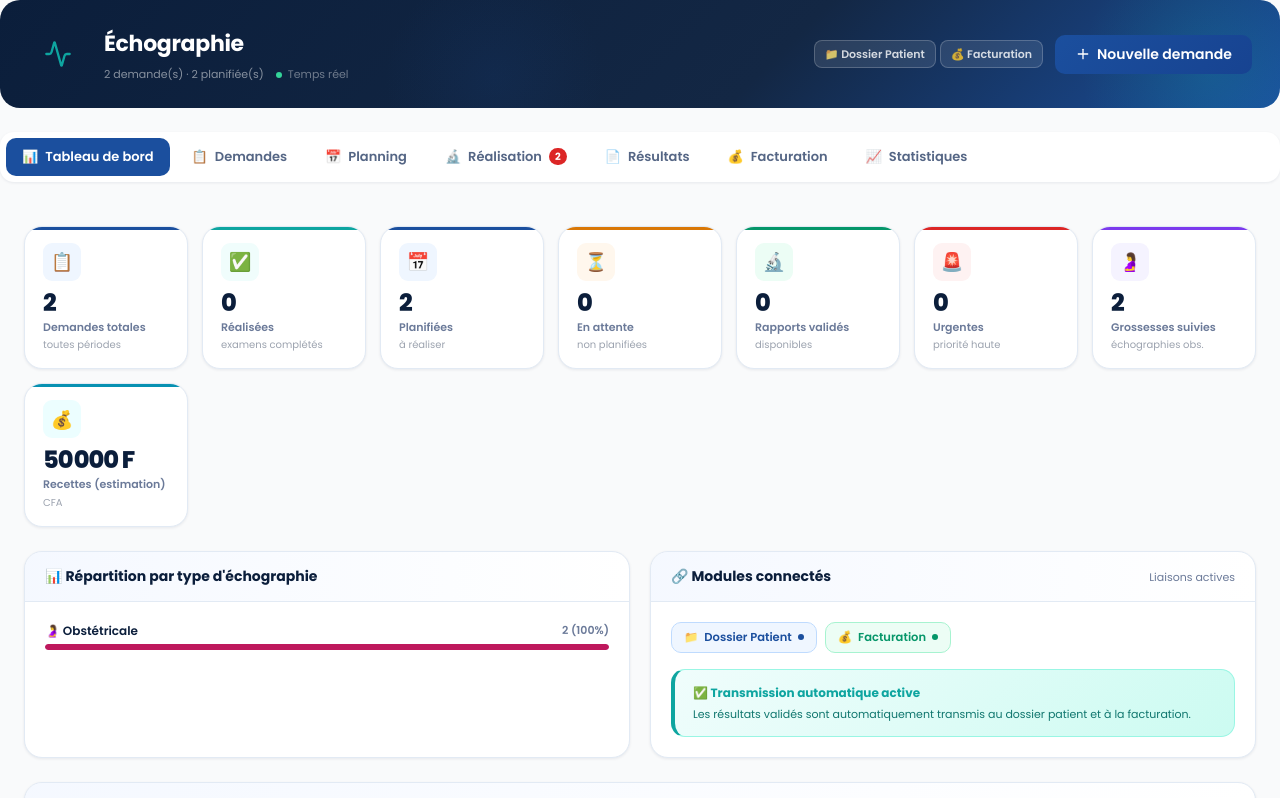
Scenario: un créneau réel n'apparaît que dans sa propre semaine, jamais dans une autre semaine au même jour
The image size is (1280, 798).
Click the button "📅 Planning" at (366, 157), box [309,138,423,176]
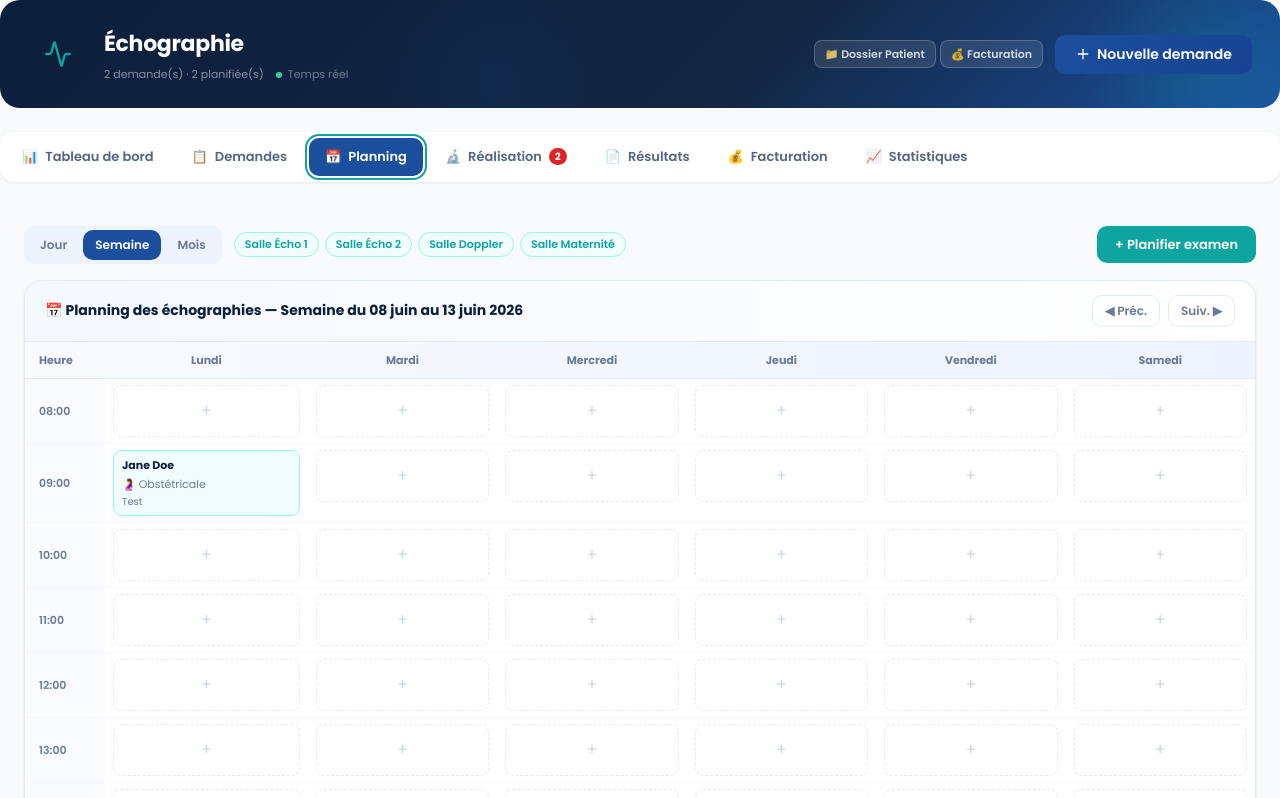
Expected: the text "Autre Patient" is not shown
Now the text "Jane Doe" is shown, box [122,457,174,473]
Click the button "Suiv. ▶" at (1202, 310), box [1168,294,1235,326]
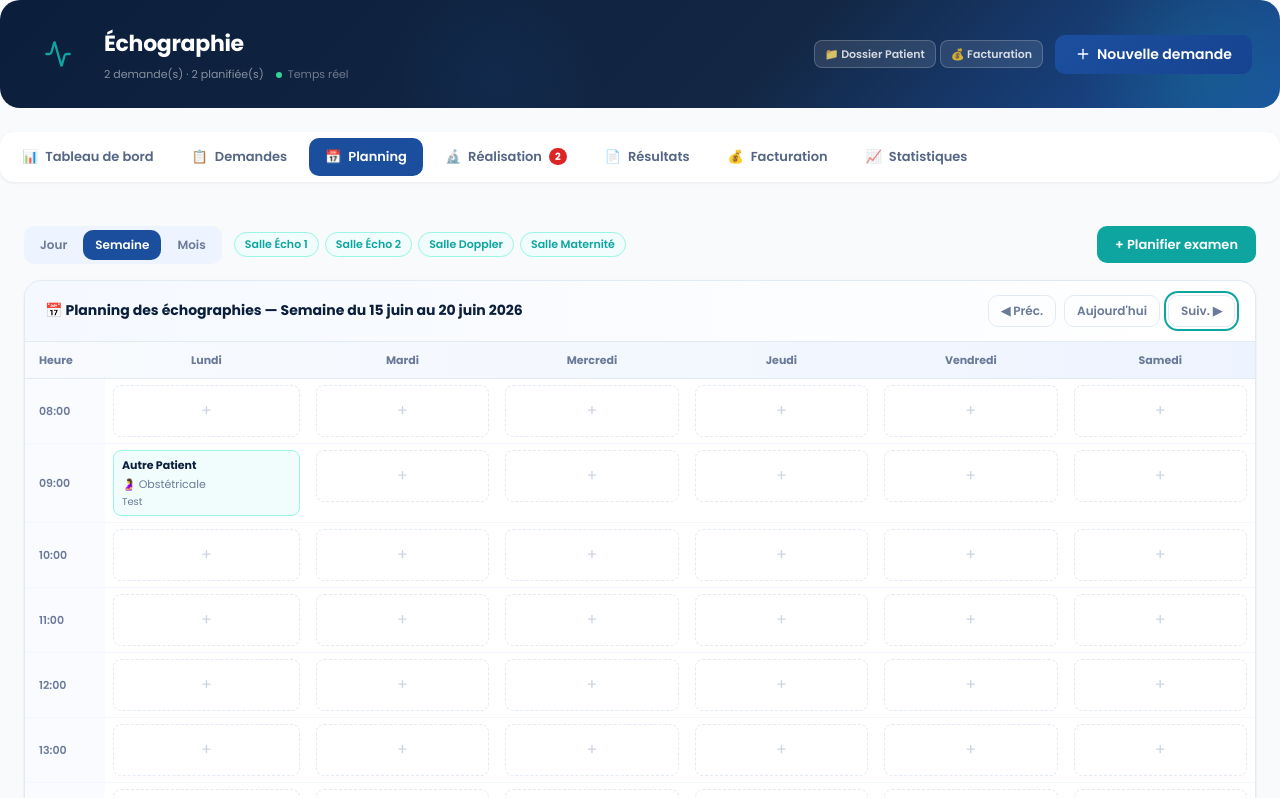
Now the text "Autre Patient" is shown, box [122,457,196,473]
Now the text "Jane Doe" is gone
